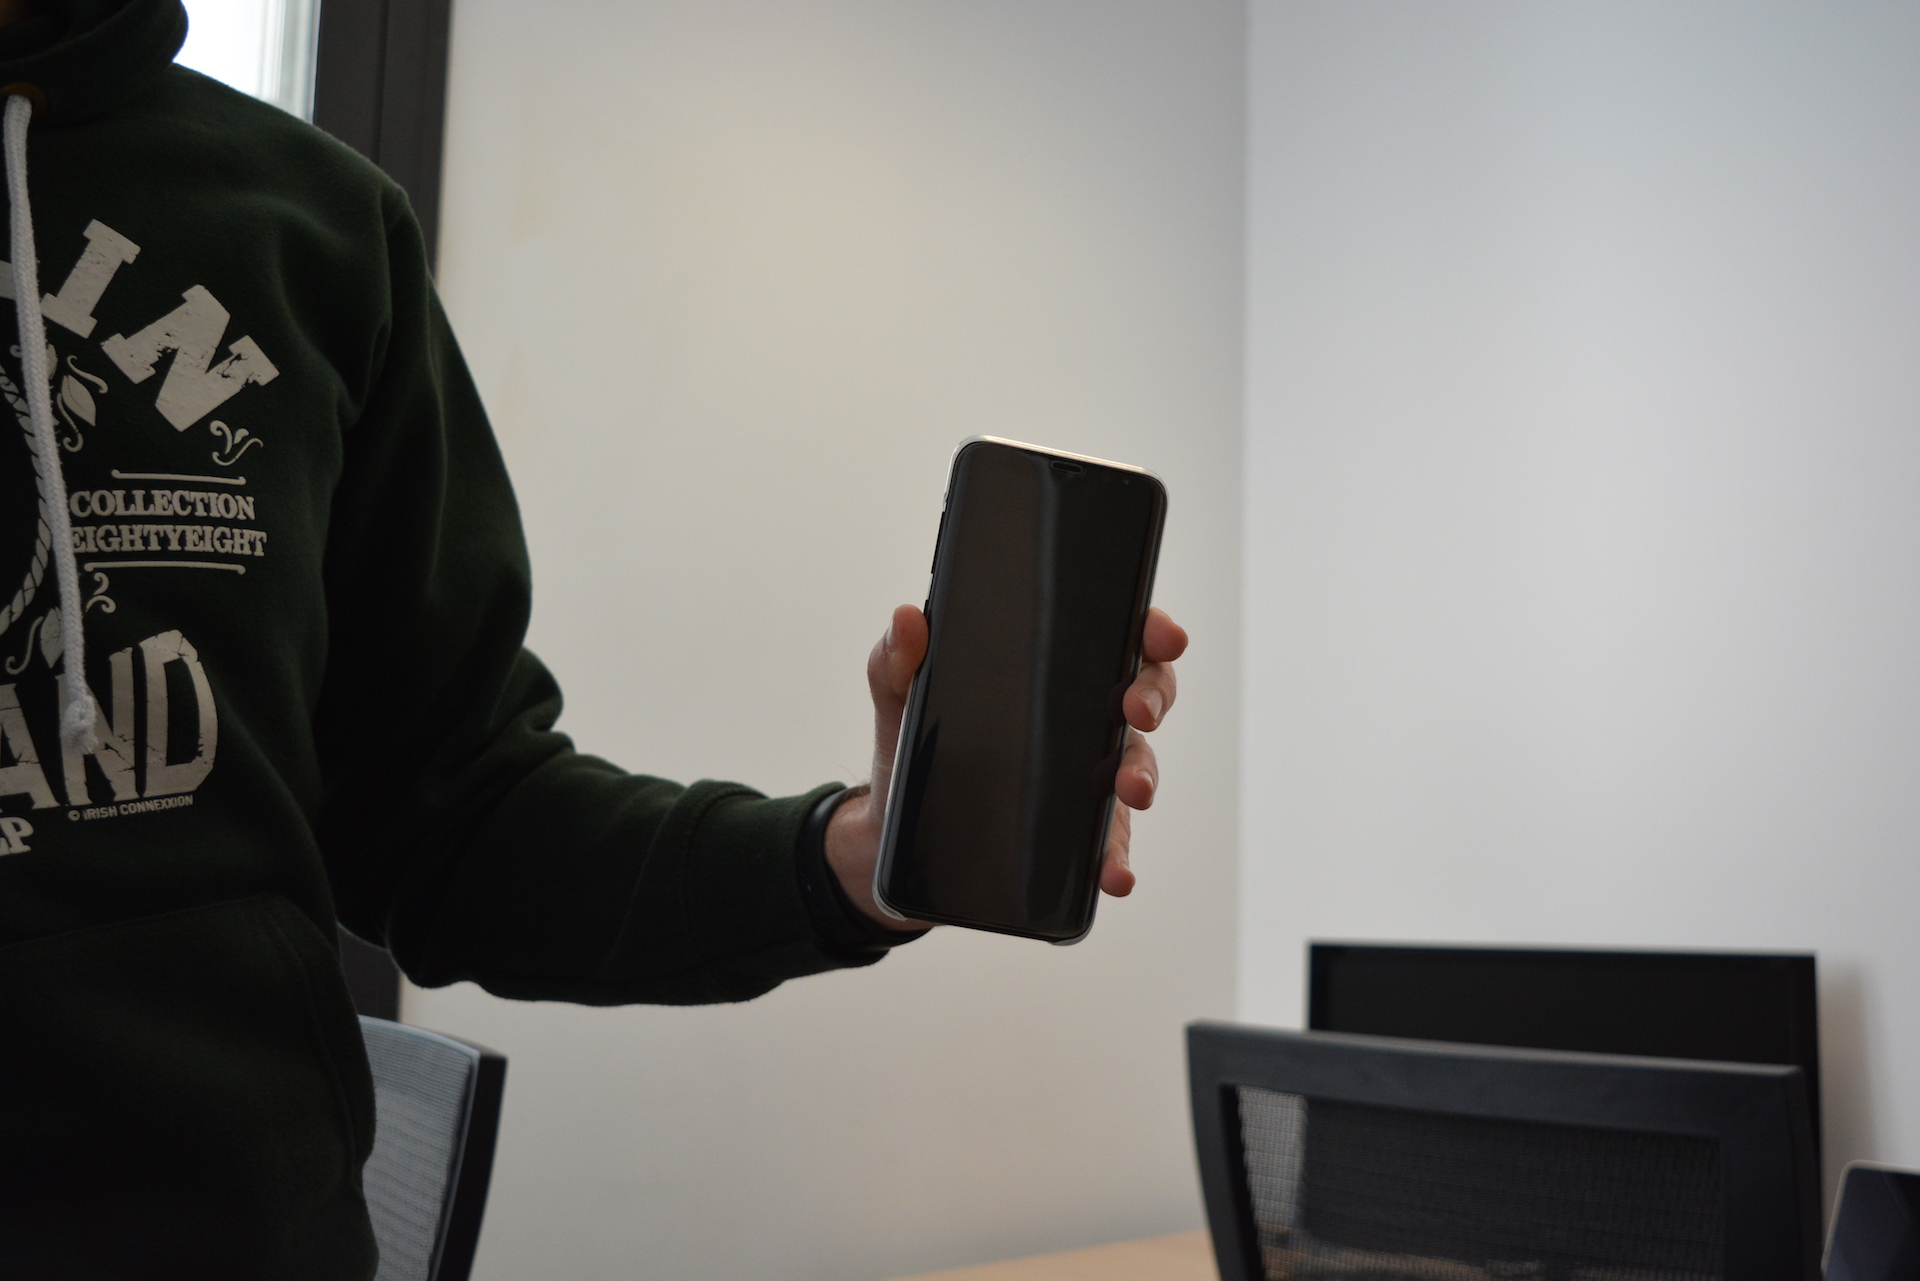smartphone: (869, 430, 1171, 949)
